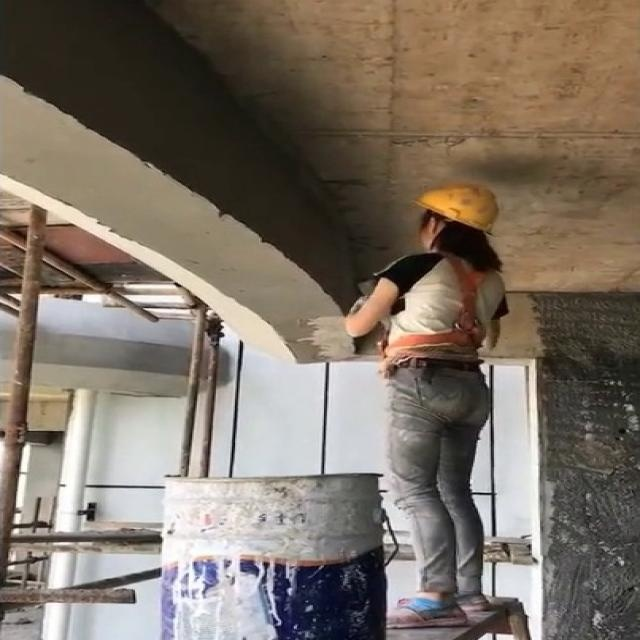Arnes_seguridad: (367, 245, 502, 361)
